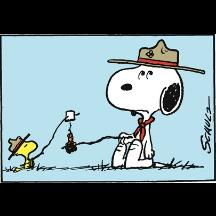snoopy: (105, 38, 195, 170)
